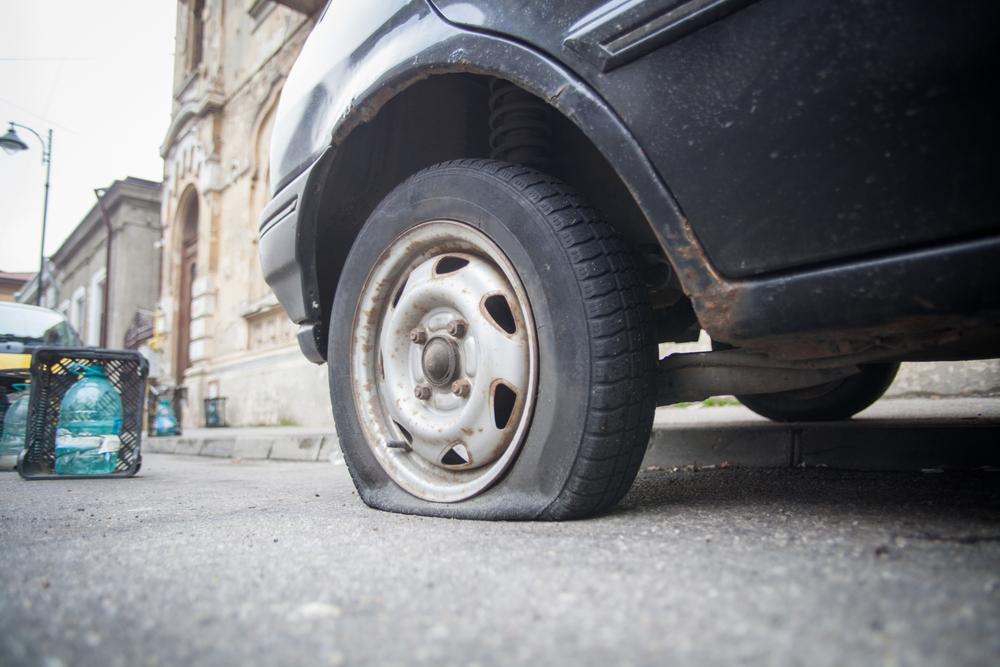tire flat: (329, 156, 659, 522)
